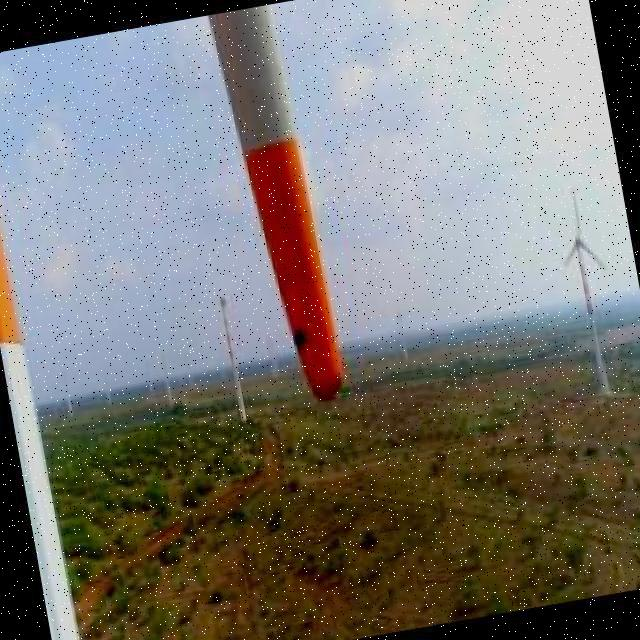Dirt: (210, 9, 351, 398)
Oil LEAKAGE: (290, 322, 313, 352)
